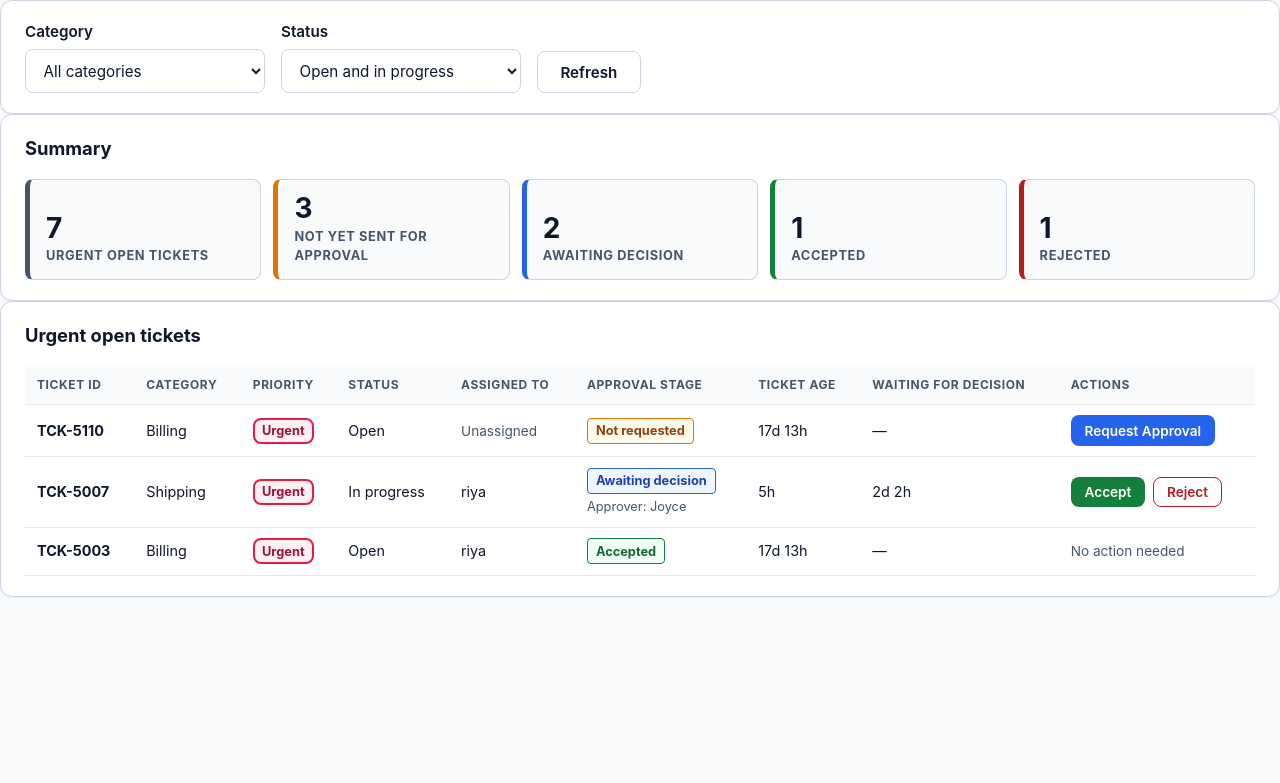
Test: Escalation Tracker › keeps the form open and shows the backend error when a request fails
Expected: the row with test id "ticket-row-TCK-5110" is shown, [25,405,1255,457]
Click the button with aria-label "request approval for tck-5110" at (1143, 431), box [1071,415,1215,446]
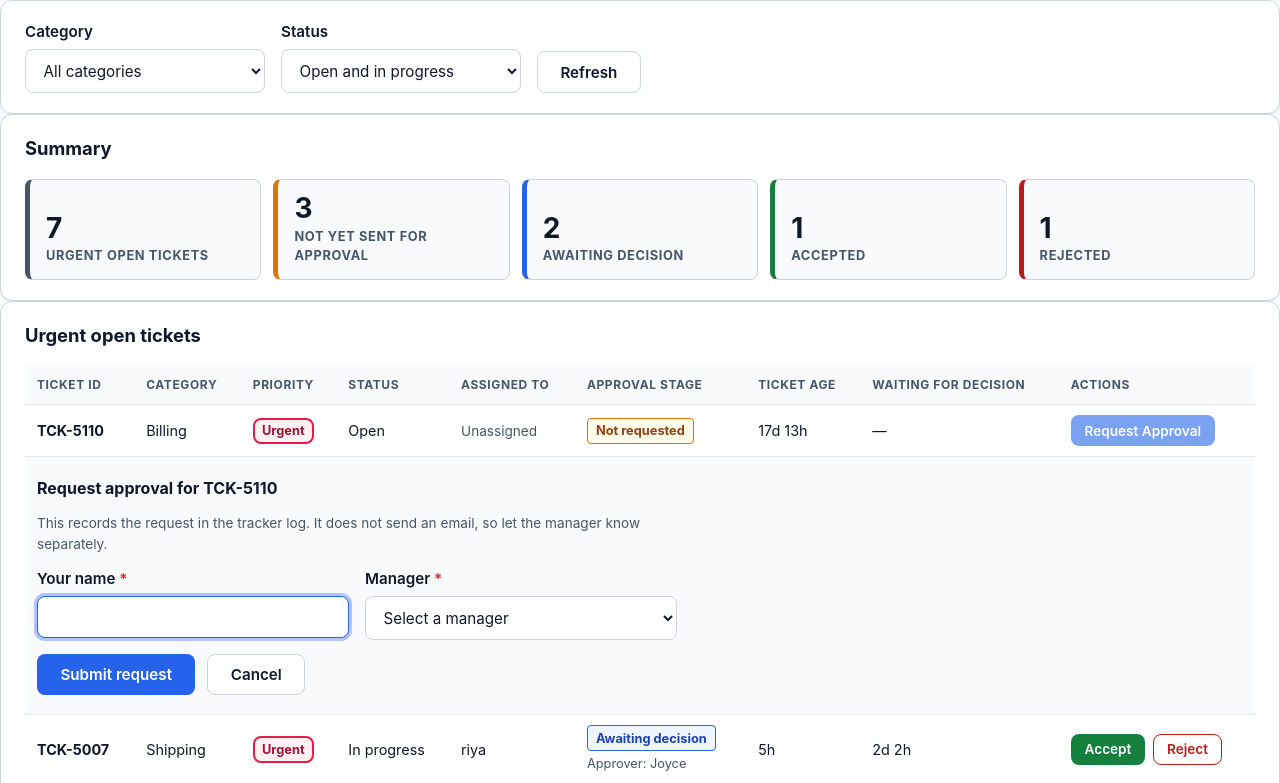
Type "Lia" into the field labelled "Your name *" at (193, 617), box [37,596,349,638]
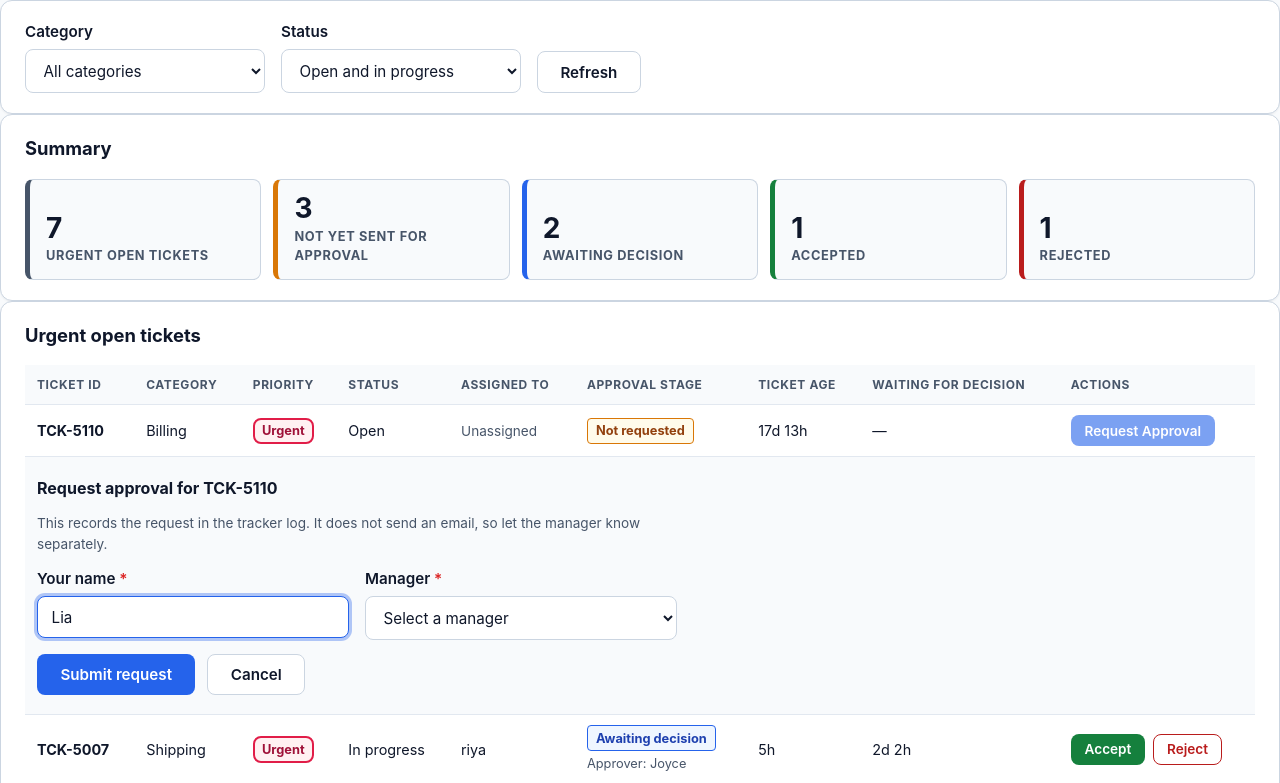
Select "Joyce" in the dropdown labelled "Manager *" at (521, 618), box [365,596,677,640]
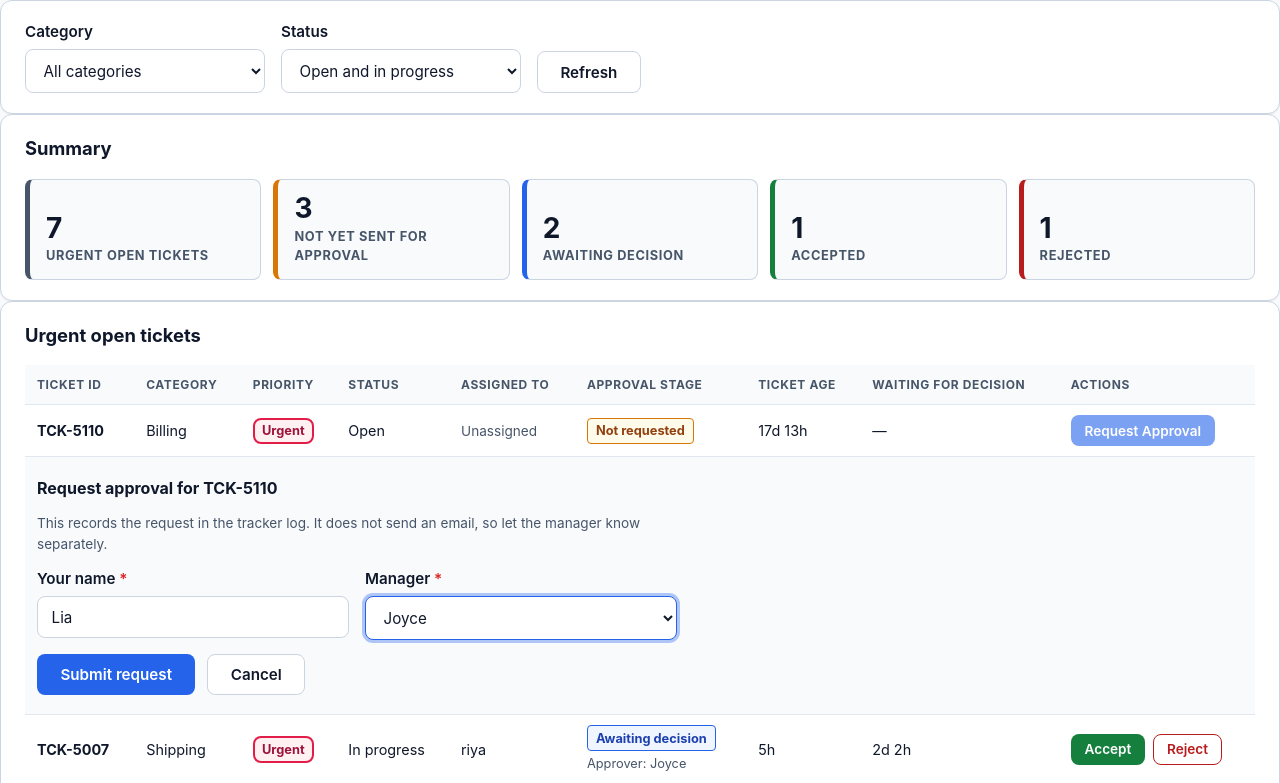
Click the button "Submit request" at (116, 674), box [37,654,195,695]
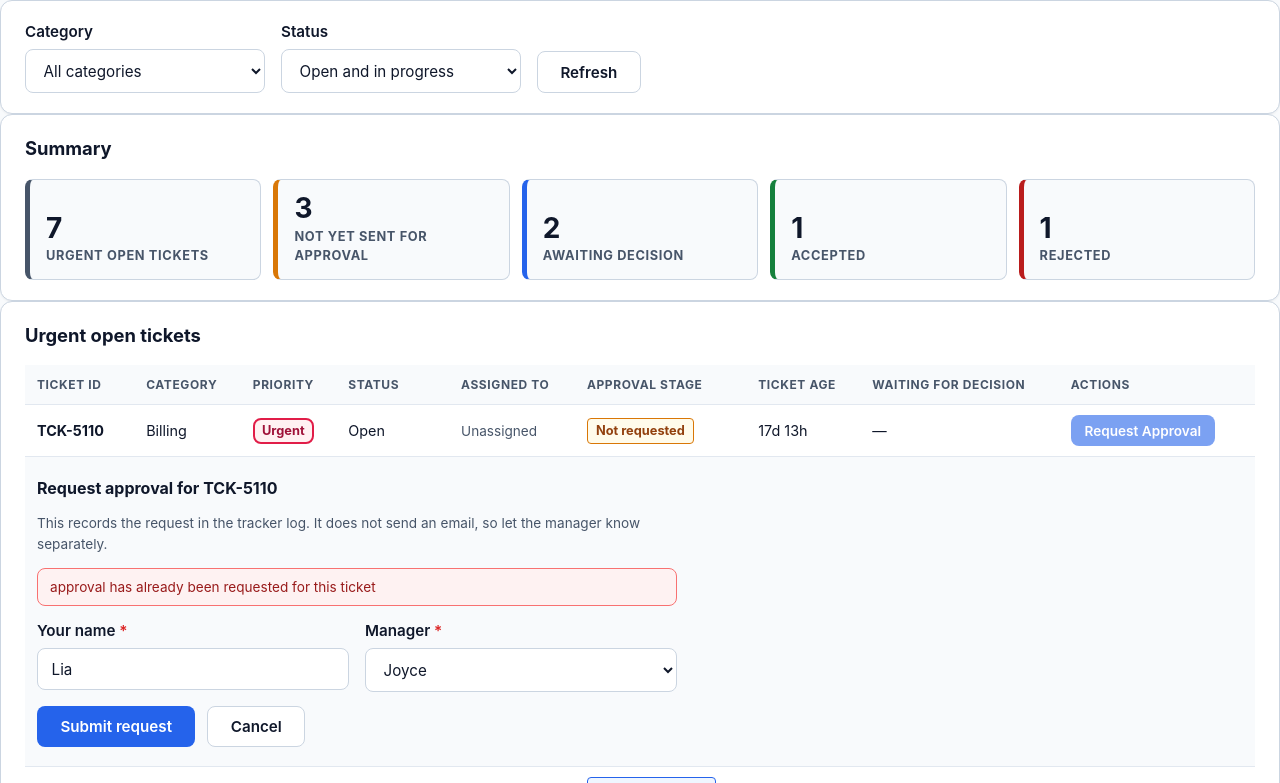
Expected: the button "Submit request" is enabled, [37,706,195,747]
Expected: the message reads "approval has already been requested for this ticket", [50,579,376,595]
Click the button "Cancel" at (256, 726), box [207,706,305,747]
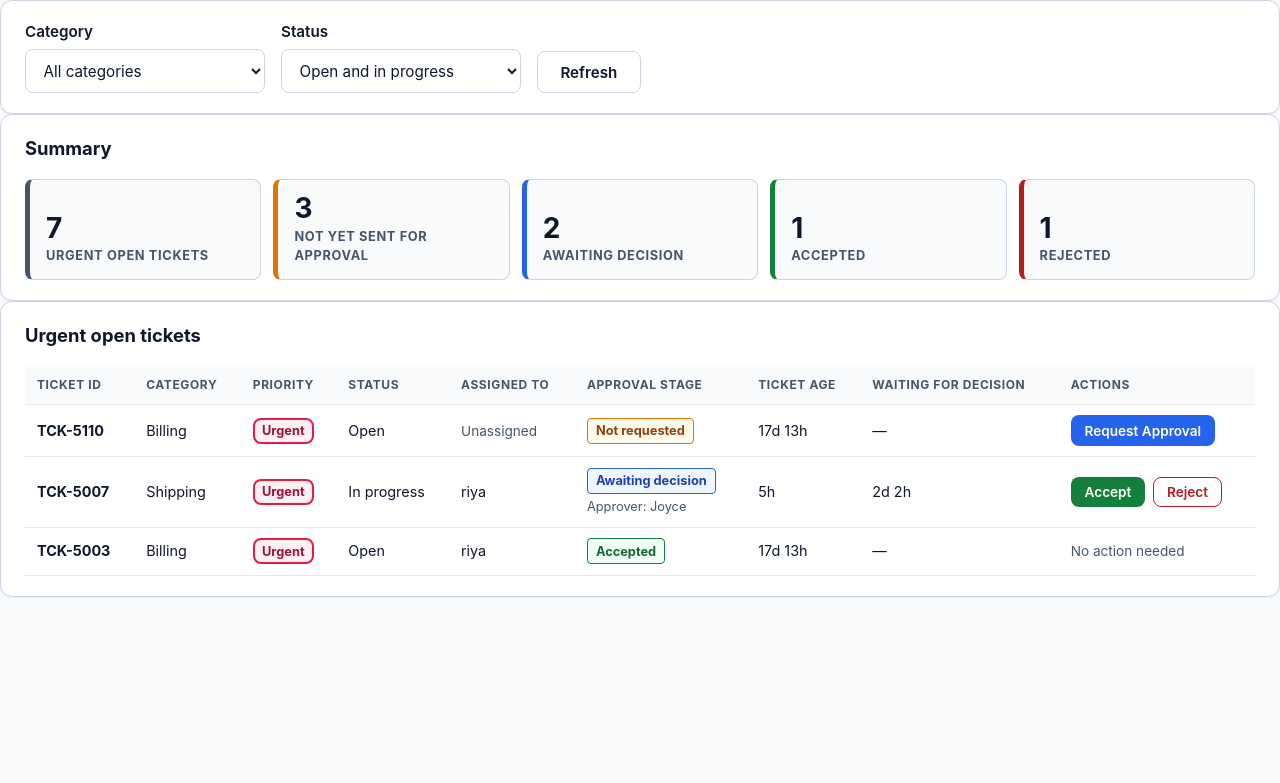
Expected: the form is gone
